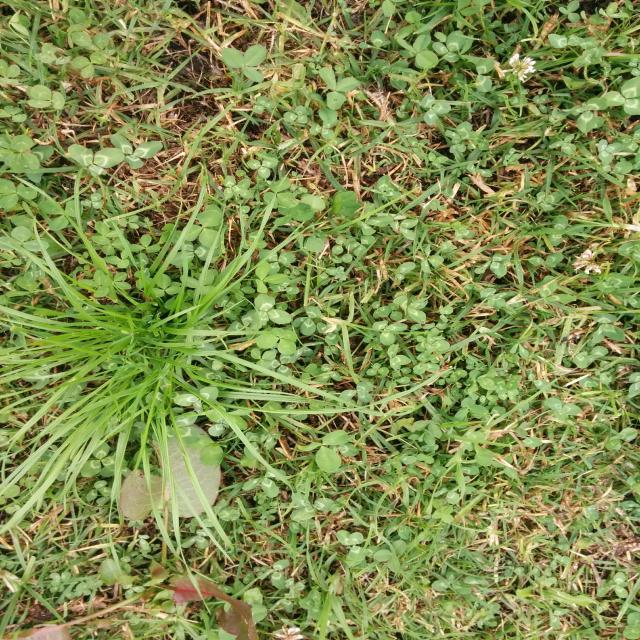Four Leaf Clover: (256, 327, 297, 355)
